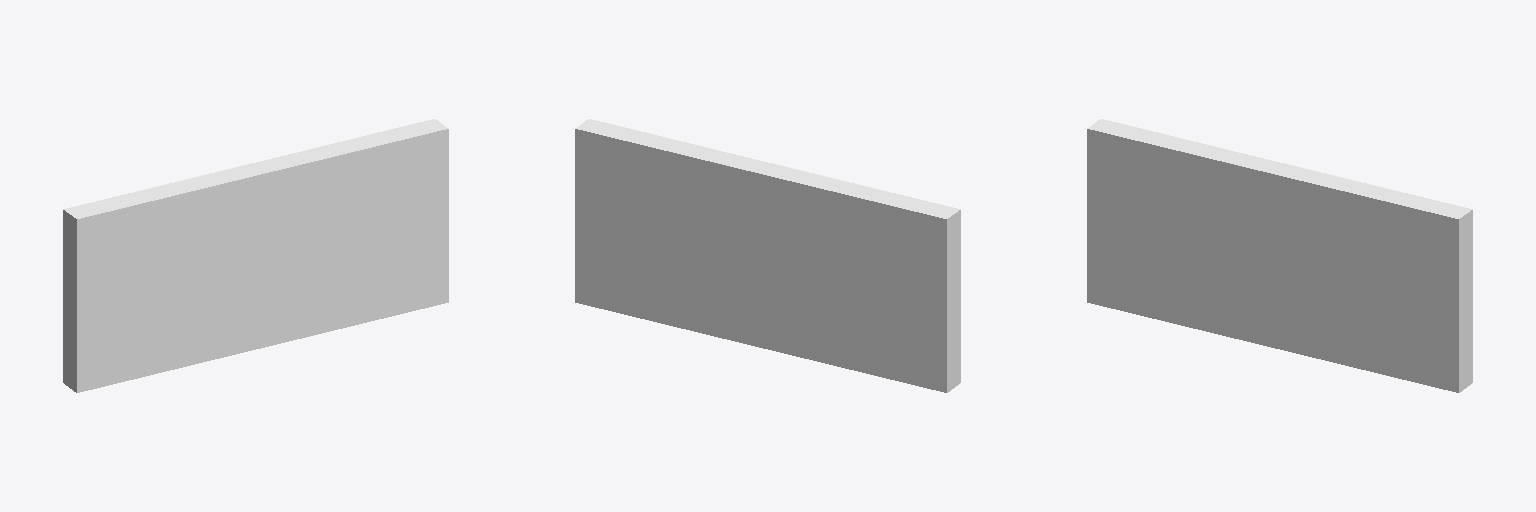
The model's file is Norma.obj.
3 views of the same model, side by side, from view 1: azimuth 30°, elevation 25°; view 2: azimuth 150°, elevation 25°; view 3: azimuth 330°, elevation 25° (orthographic).
Parts seen in each view (by area): view 1: object 1; view 2: object 1; view 3: object 1.
Boxes of the visible parts, box(x1,y1,x2,y2) form: object 1: box(63, 119, 448, 392); object 1: box(575, 119, 960, 392); object 1: box(1087, 119, 1472, 392).
Size of the model in its own units: 4.7 by 2.1 by 0.3.